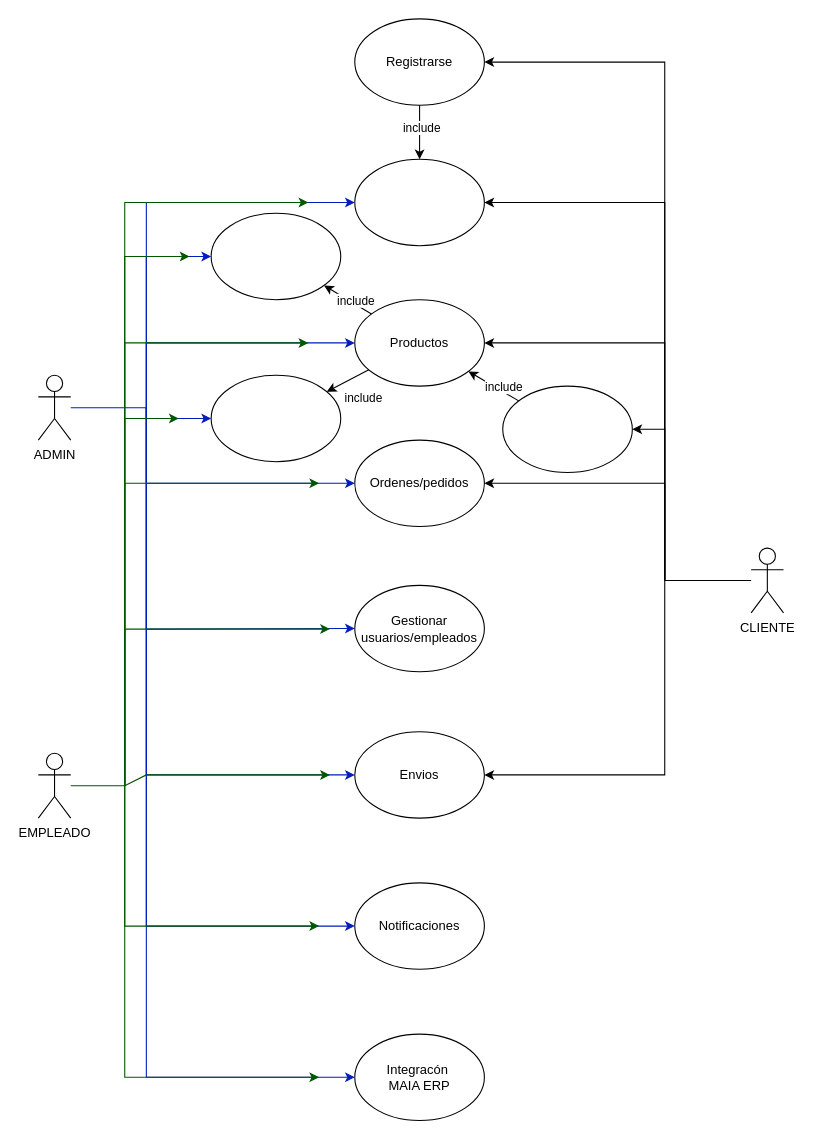
The diagram is 813 pixels wide and 1139 high, and some of its shapes have lost their labels. The shapes that lost their labels are listed below. From the top down, each one's centre as x and y in pixels, then its label:
At point (419, 202): "Iniciar Sesion".
At point (275, 256): "Vehiculos".
At point (275, 418): "Categorias y subcategorias".
At point (567, 429): "Carrito de compras".
